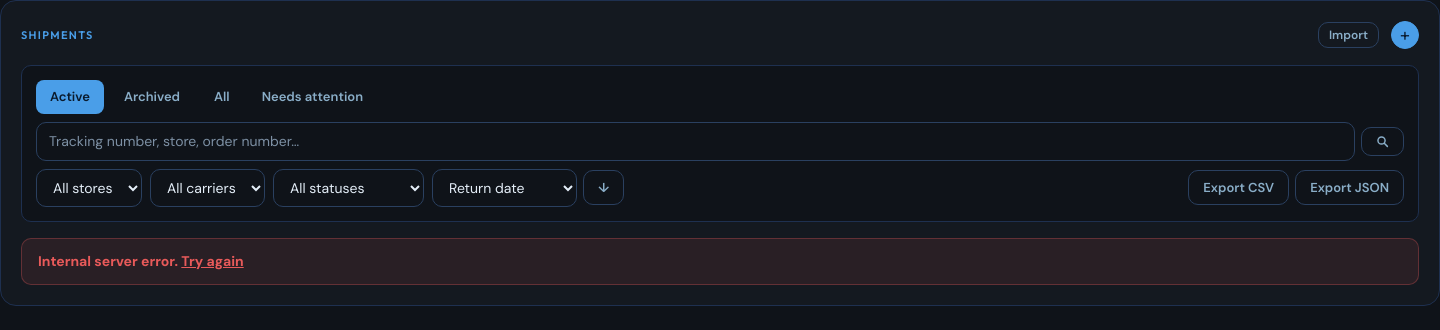
when the list cannot be loaded › says what went wrong and lets the user try again
Expected: the text "Internal server error." is shown, [38,252,178,270]
Click the button "Try again": {"x": 212, "y": 261} [181,250,244,272]
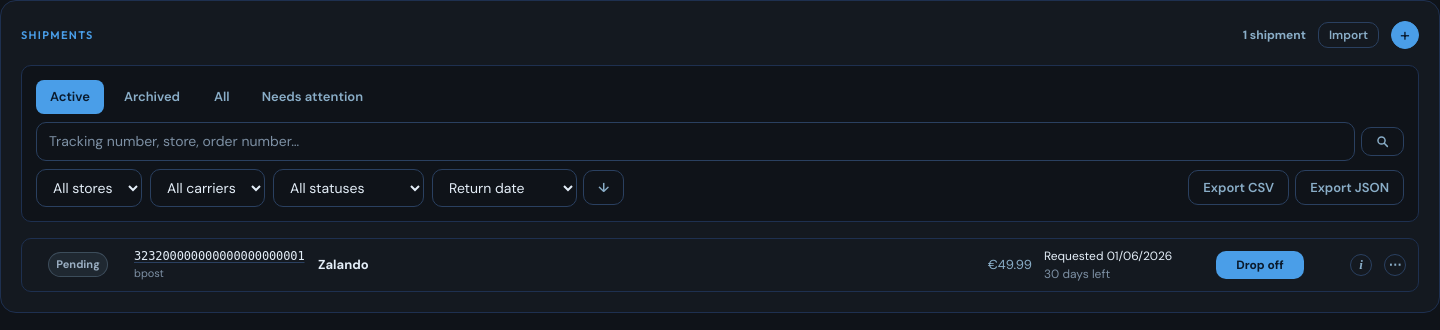
Result: the text "Zalando" is shown at [318,256,369,273]
